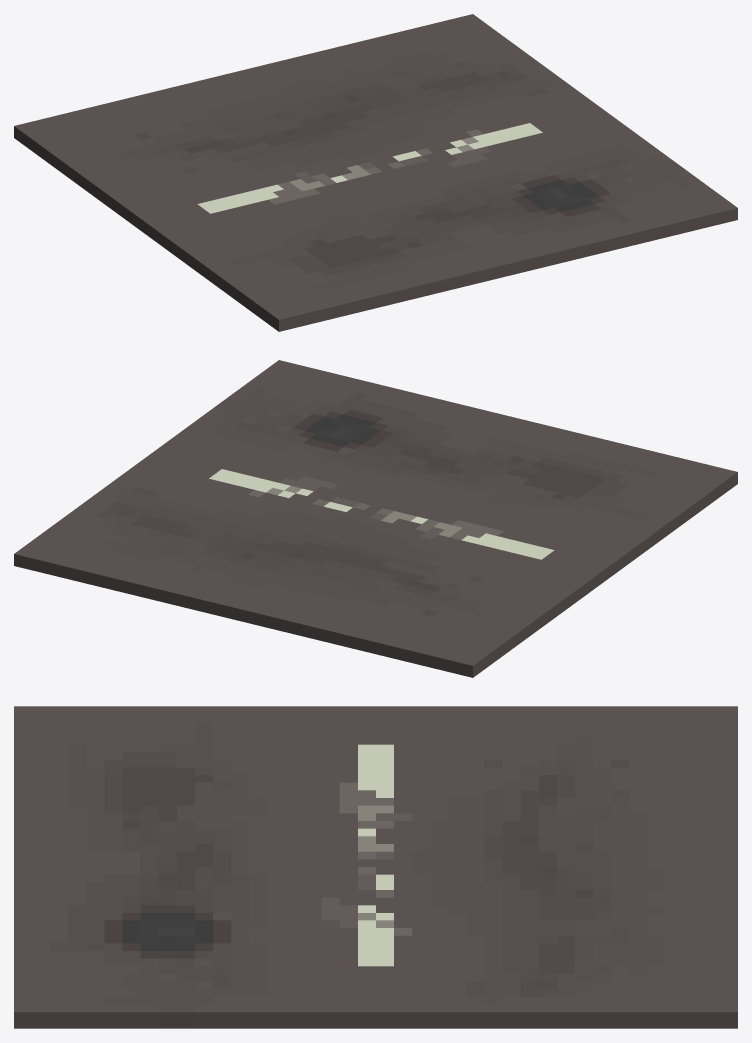
File: Road1.obj
3 renders of one model, top to bottom at view 1: azimuth 30°, elevation 25°; view 2: azimuth 150°, elevation 25°; view 3: azimuth 270°, elevation 25°, orthographic. The views are drawn at different scales.
Size of the model in its own units: 4 by 0.1 by 4.
Materials: 1 (1 with a texture image).
